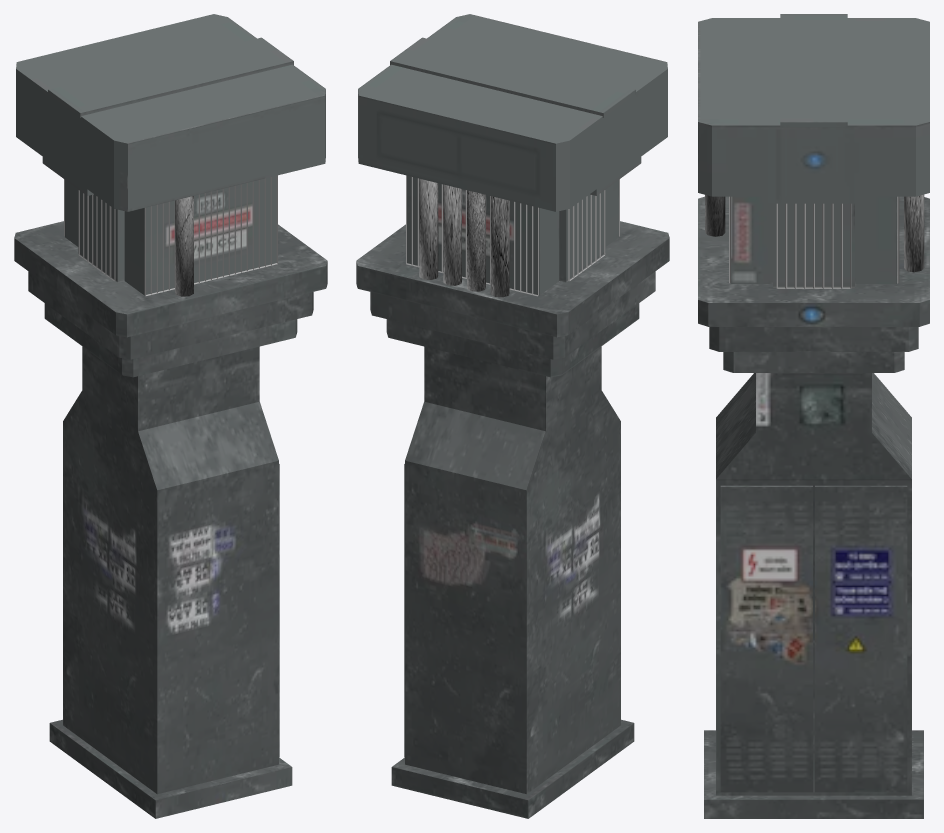
File: cot-dien.glb
The picture shows the model from 3 angles, left to right: view 1: azimuth 30°, elevation 25°; view 2: azimuth 150°, elevation 25°; view 3: azimuth 270°, elevation 25°; orthographic projection. The views are drawn at different scales.
Visible parts, largest first — view 1: Cube.113; view 2: Cube.113; view 3: Cube.113.
Boxes of the visible parts, <box> form: Cube.113: <box>14,14,327,818</box>; Cube.113: <box>356,14,669,818</box>; Cube.113: <box>698,14,929,818</box>.
Bounding box in the file's own units: 0.3248 × 1 × 0.2935.
Materials: 3 (2 with a texture image).
